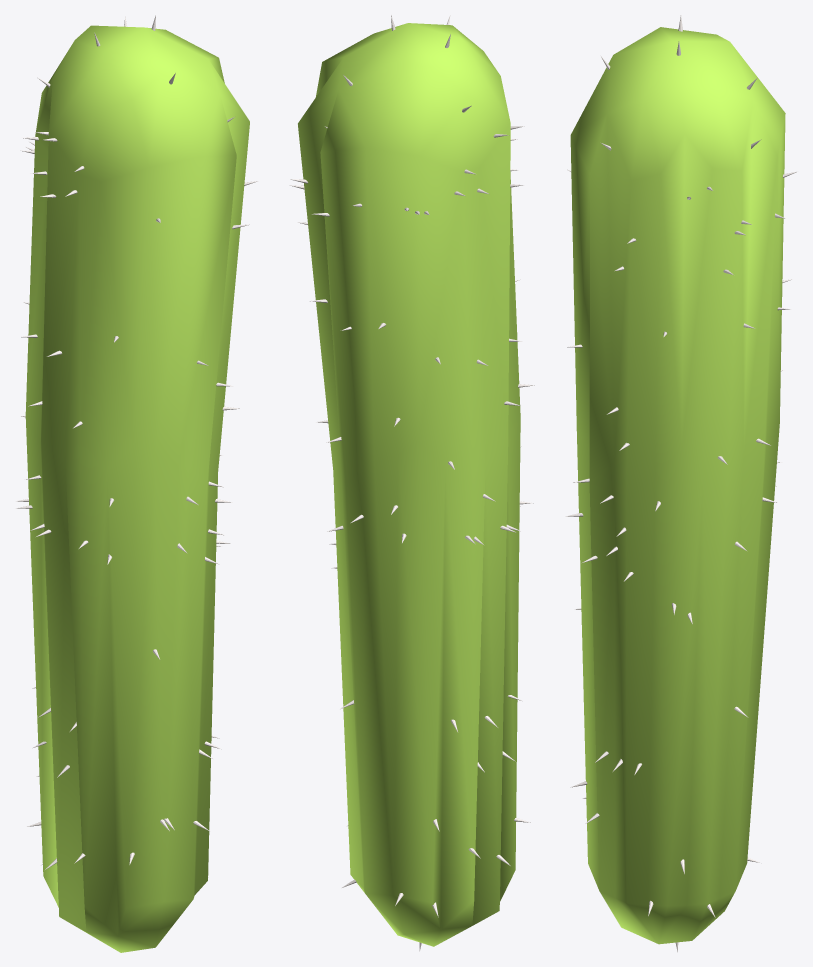
The model's file is Cactus03.obj.
3 views of the same model, side by side, from view 1: azimuth 30°, elevation 25°; view 2: azimuth 150°, elevation 25°; view 3: azimuth 270°, elevation 25° (orthographic).
Parts seen in each view (by area): view 1: Circle, Cone; view 2: Circle, Cone; view 3: Circle, Cone.
Boxes of the visible parts, x1=… form: Circle: x1=25, y1=25, x2=249, y2=952; Cone: x1=15, y1=15, x2=258, y2=877; Circle: x1=298, y1=23, x2=520, y2=946; Cone: x1=290, y1=15, x2=534, y2=951; Circle: x1=570, y1=27, x2=785, y2=944; Cone: x1=565, y1=15, x2=797, y2=952.
Bounding box in the file's own units: 2.96 × 12.73 × 2.92.
